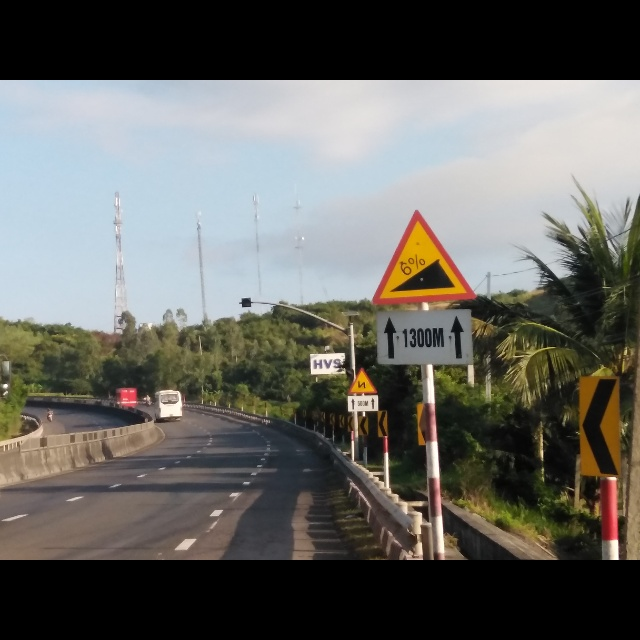Dốc lên nguy hiểm: (373, 205, 477, 306)
Ngoặt nguy hiểm liên tiếp bên phải: (347, 362, 380, 397)
